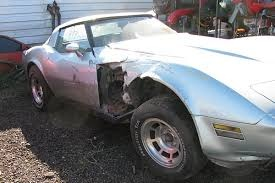Dent: (92, 56, 161, 124)
